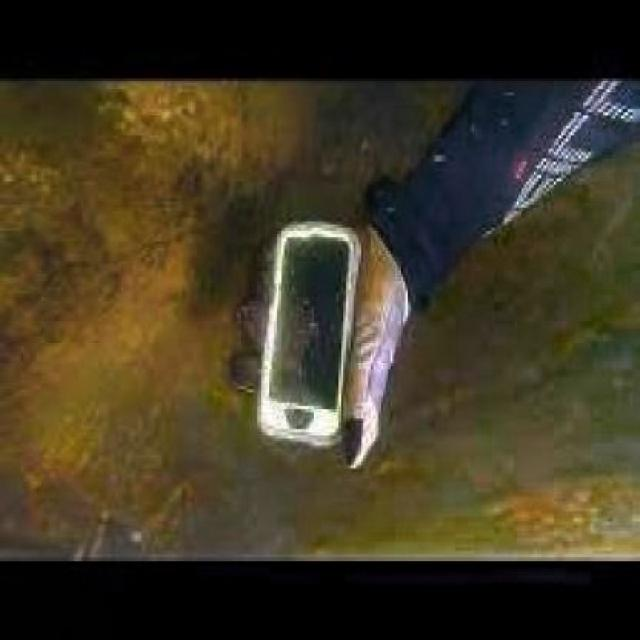cellphone: (257, 217, 363, 448)
